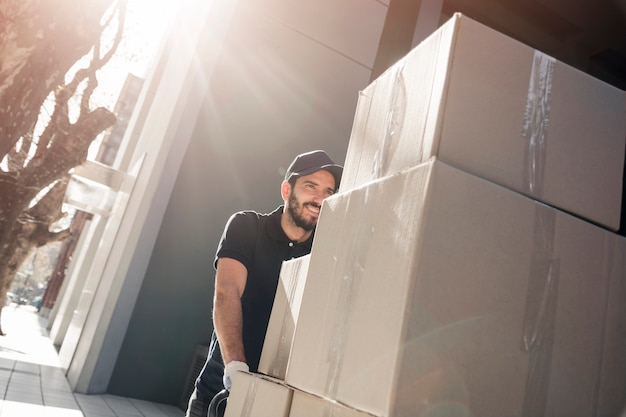DeliveryBox: (321, 25, 626, 417)
Person: (185, 139, 333, 417)
